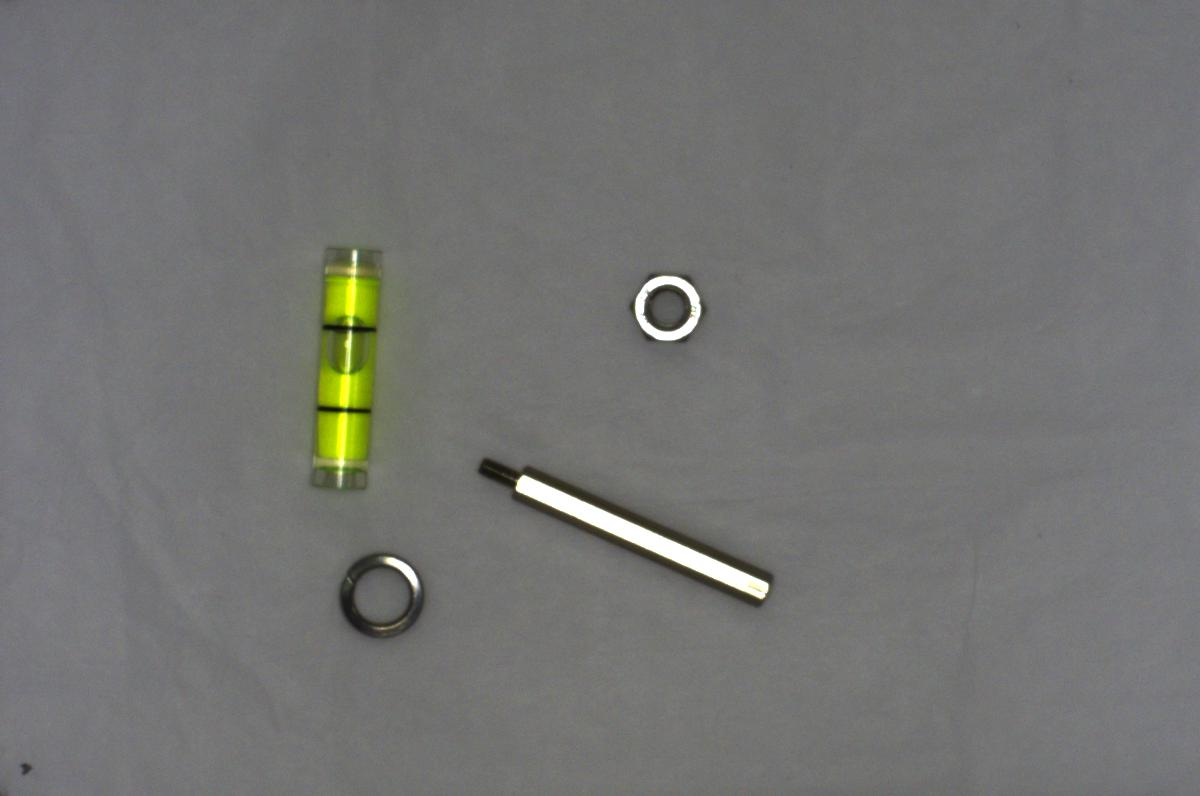Hexagon nut: (617, 268, 712, 343)
Hexagonal steel column: (470, 450, 777, 607)
Horizontal bubble: (292, 236, 387, 496)
Spring washer: (331, 545, 434, 635)
